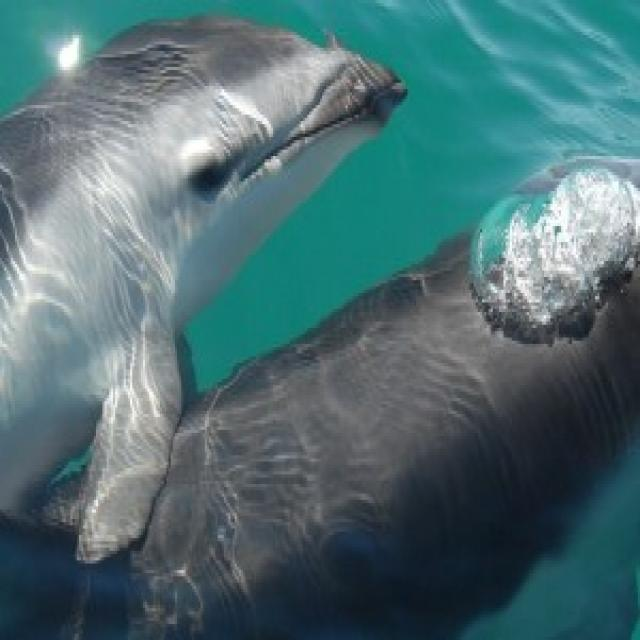Dolphin: (0, 6, 412, 581)
